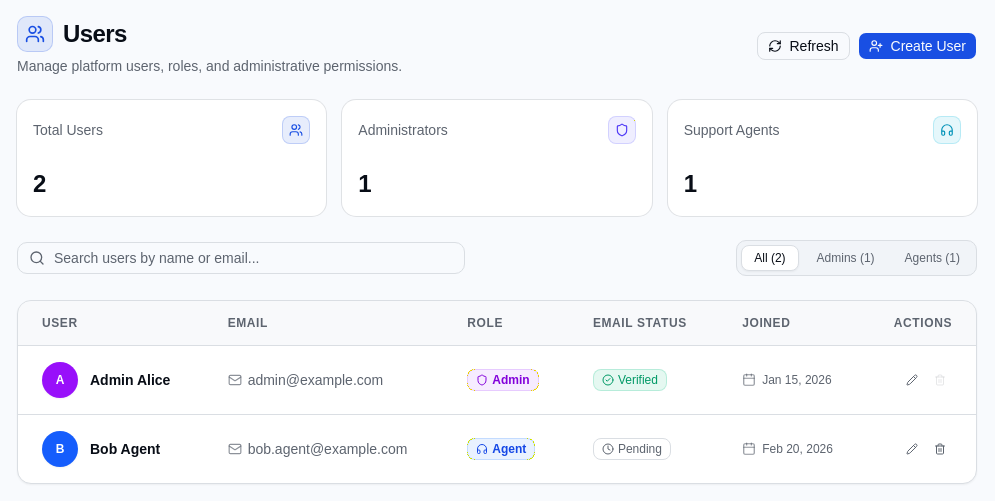
Test case: UsersPage Component › 4. Role Filtering › filters to only administrators when clicking 'Admins' filter button
The width and height of the screenshot is (995, 501).
Expected: the text "Admin Alice" is shown, [90, 372, 170, 388]
Click the button "Admins (1)" at (846, 258), box [805, 246, 887, 270]
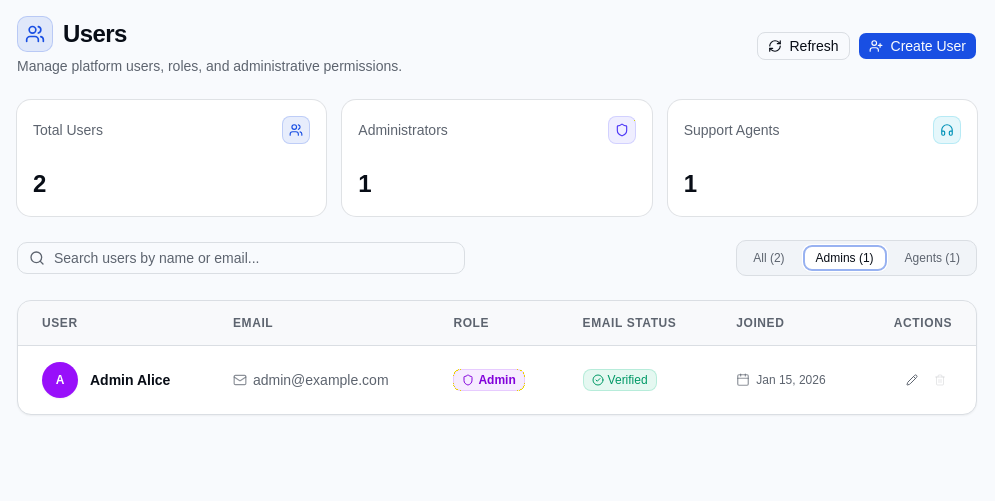
Expected: the text "Admin Alice" is shown, [90, 372, 170, 388]
Expected: the text "Bob Agent" is gone
